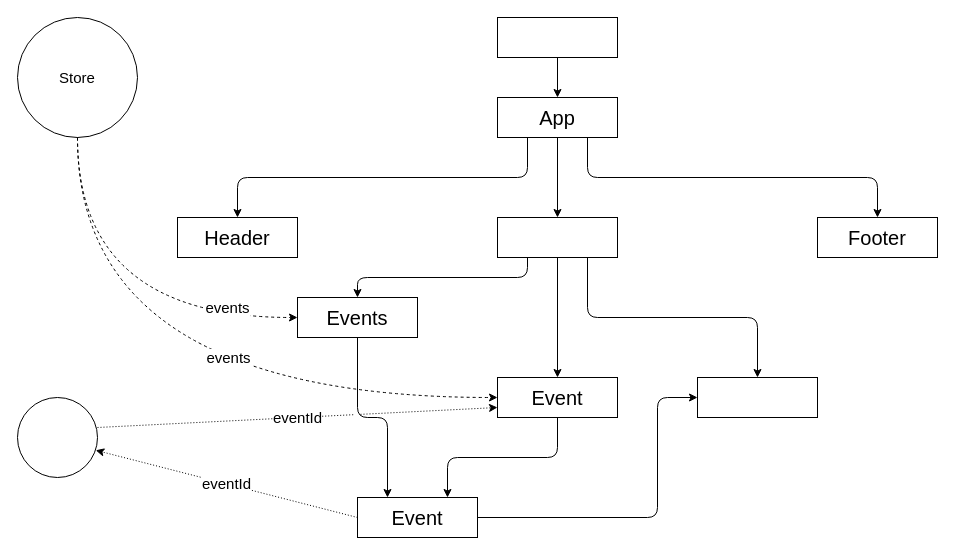
This 955x555 diagram has some shape labels left out. The shapes that lost their labels are listed below. From the top down, each one's centre as x and y in pixels, then its label:
At (557,37): "index".
At (557,237): "Main".
At (757,397): "Guide".
At (57,437): "url".
